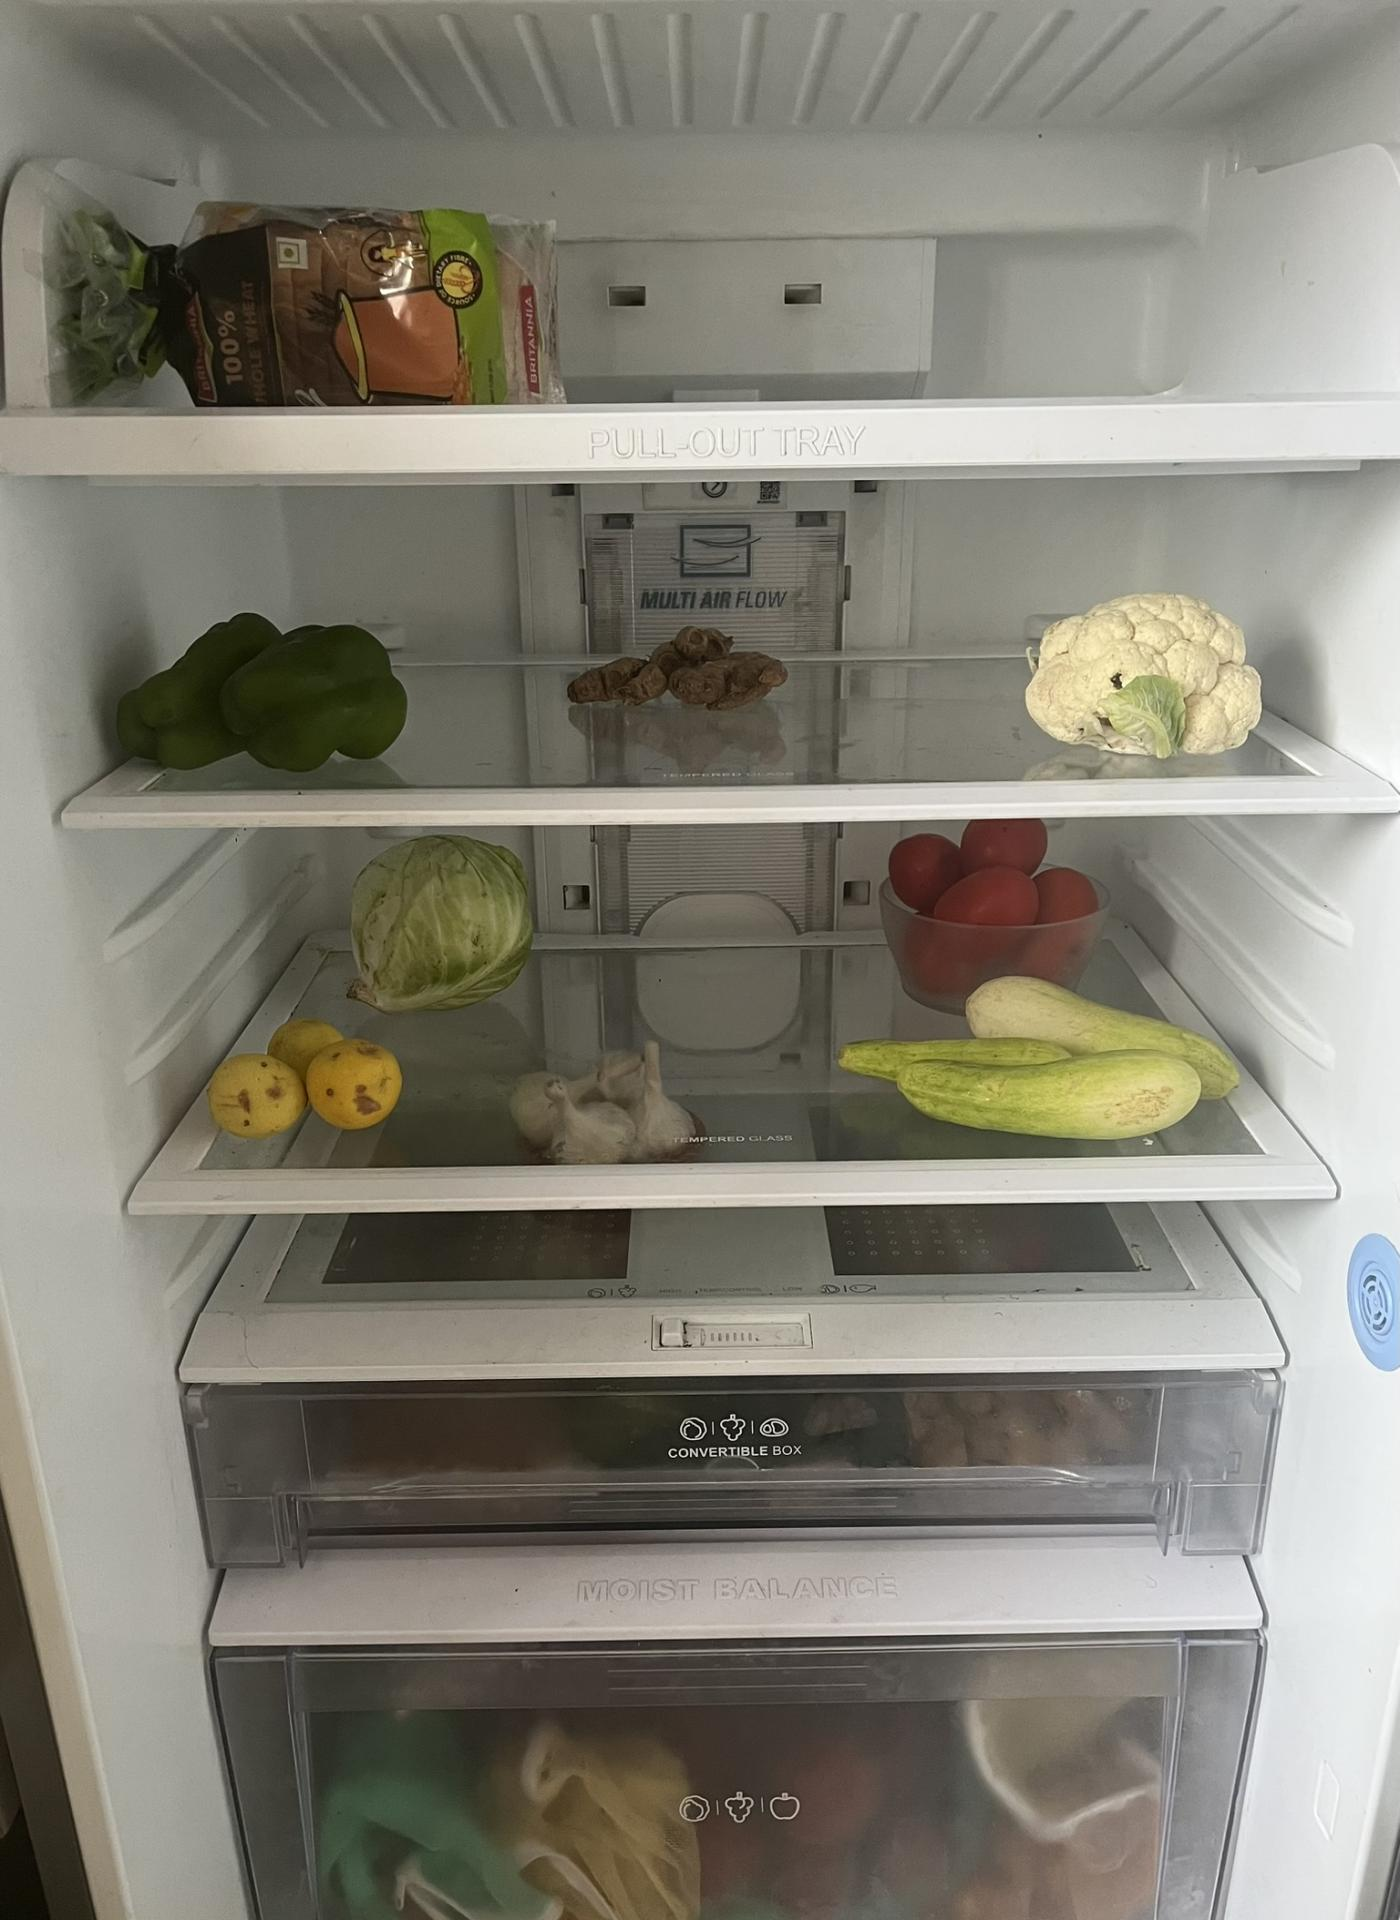bread: (46, 197, 571, 441)
cabbage: (337, 832, 559, 1015)
capsicum: (103, 604, 422, 790)
cauliflower: (1027, 578, 1270, 759)
cucumber: (832, 959, 1264, 1143)
garlic: (507, 1038, 711, 1166)
ginger: (565, 610, 799, 727)
lemon: (210, 1006, 413, 1146)
tomato: (872, 818, 1115, 984)
